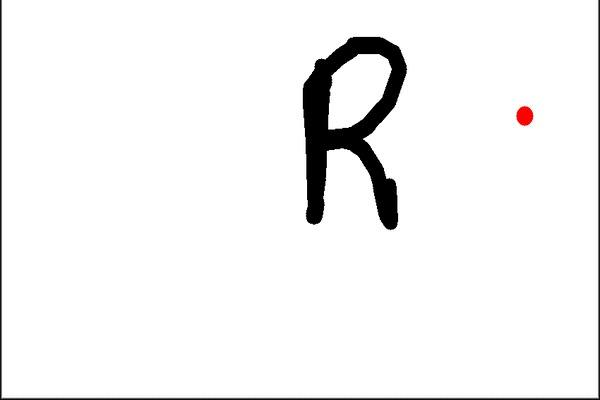R: (293, 33, 414, 230)
